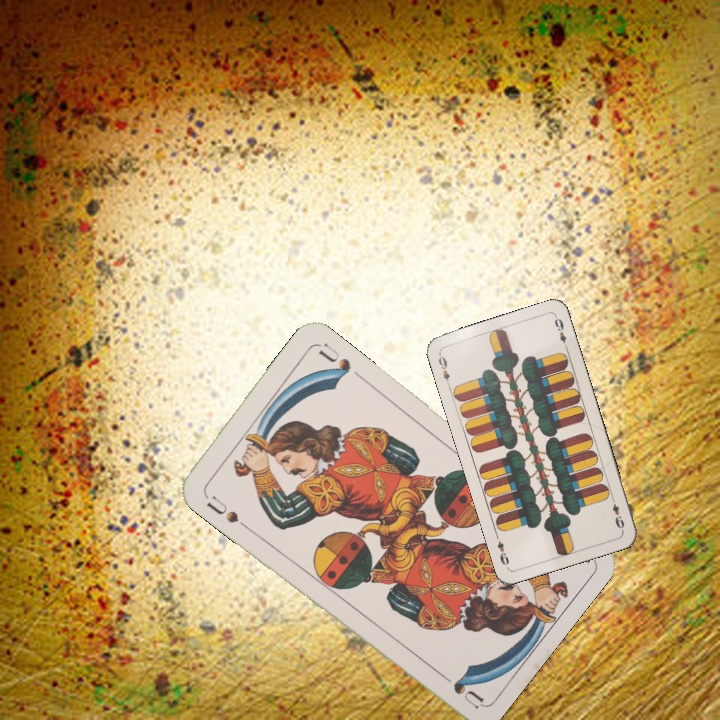E9: (607, 493, 627, 531), (434, 350, 453, 390)
SU: (199, 488, 250, 531)
